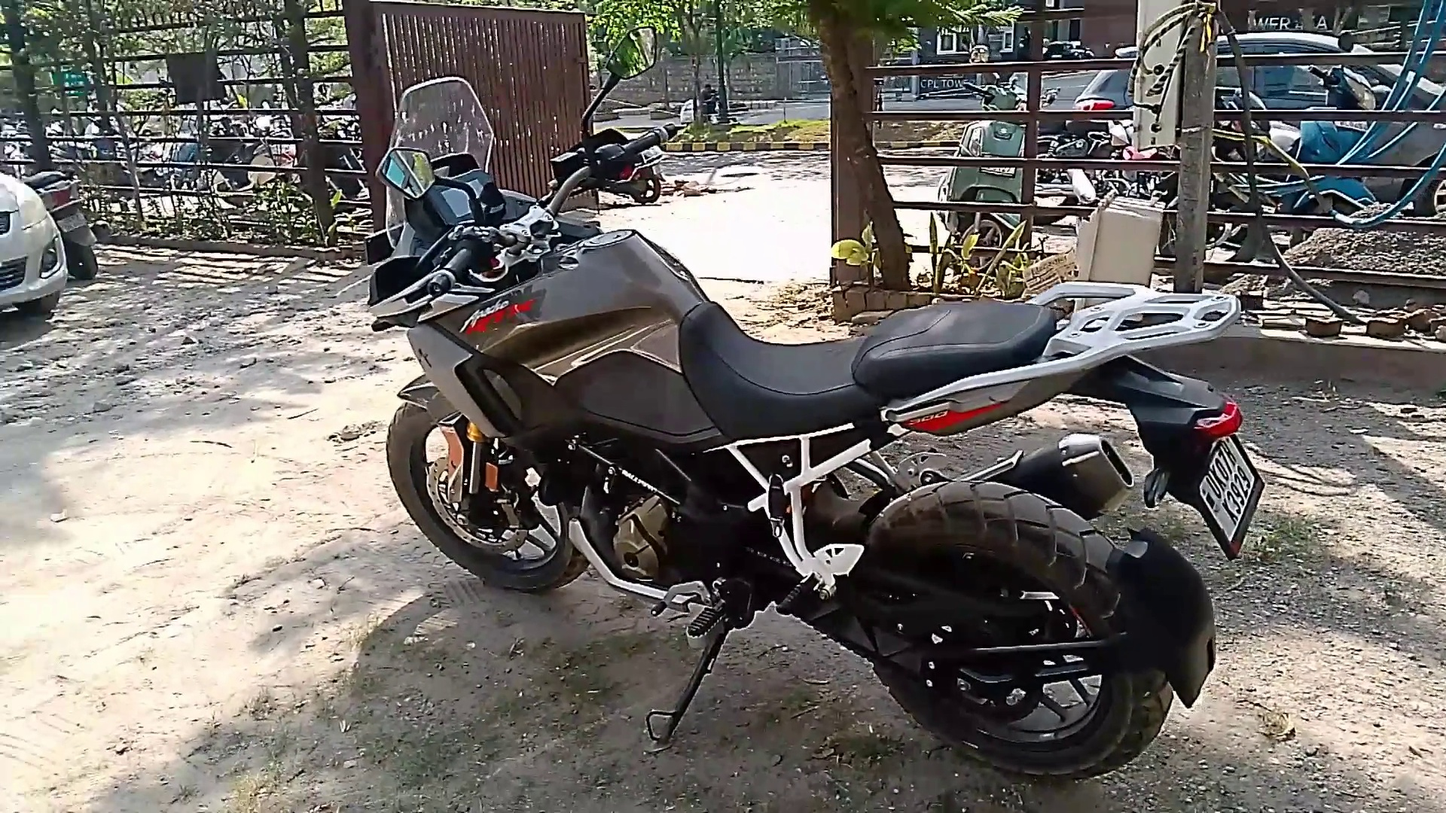engine: (589, 448, 699, 604)
